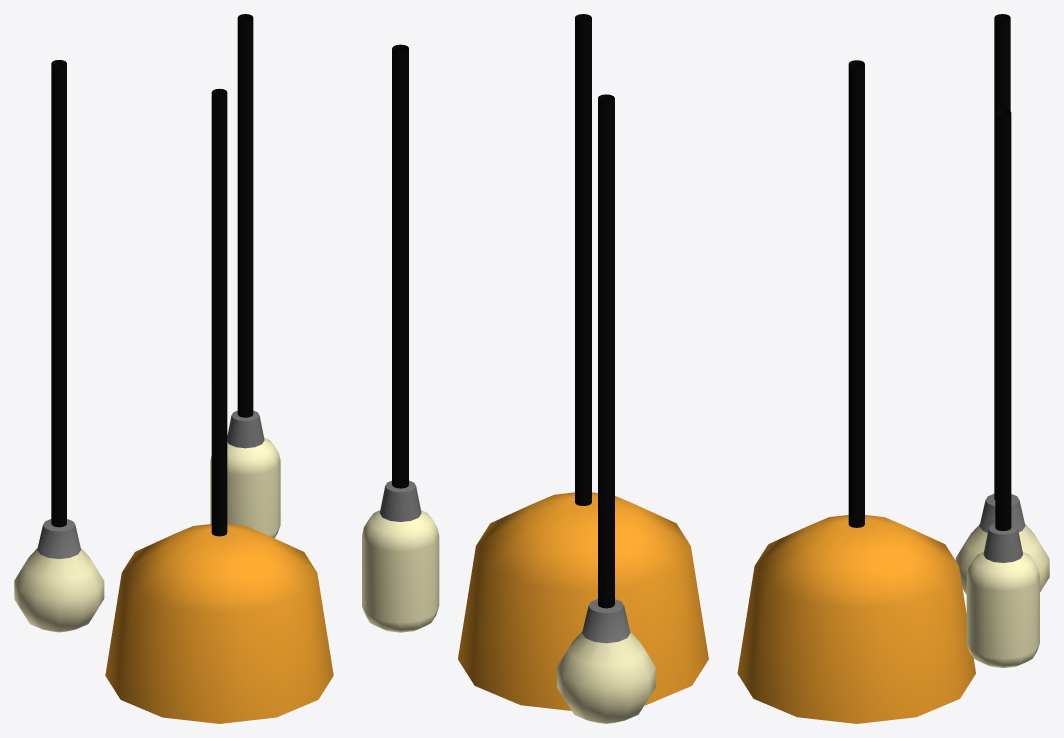
File: Lamp1.fbx
3 views of the same model, side by side, from view 1: azimuth 30°, elevation 25°; view 2: azimuth 150°, elevation 25°; view 3: azimuth 270°, elevation 25° (orthographic). The views are drawn at different scales.
Parts seen in each view (by area): view 1: Cafe_Lamp; view 2: Cafe_Lamp; view 3: Cafe_Lamp.
Boxes of the visible parts, left/top/right/bottom form: Cafe_Lamp: left=14, top=14, right=333, bottom=723; Cafe_Lamp: left=362, top=14, right=708, bottom=723; Cafe_Lamp: left=737, top=14, right=1049, bottom=723.
Size of the model in its own units: 66.27 by 144 by 66.93.
